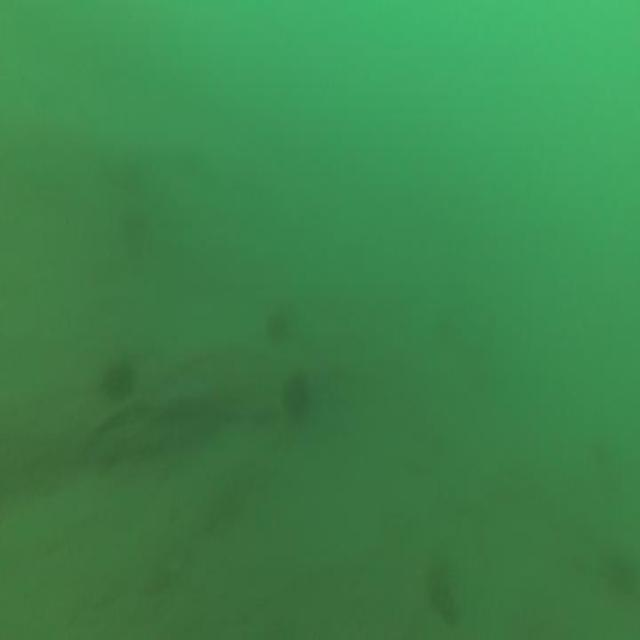echinus: (96, 344, 138, 408), (279, 365, 317, 431), (425, 559, 459, 626), (261, 300, 291, 351)
